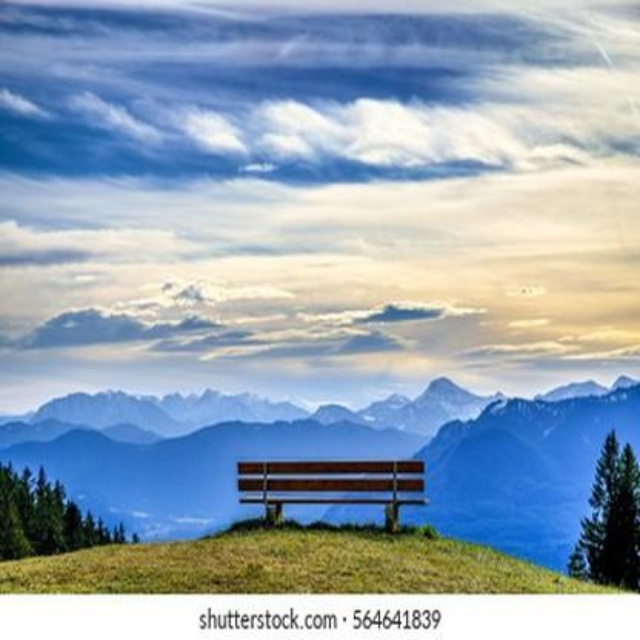obstacle: (223, 451, 440, 542)
